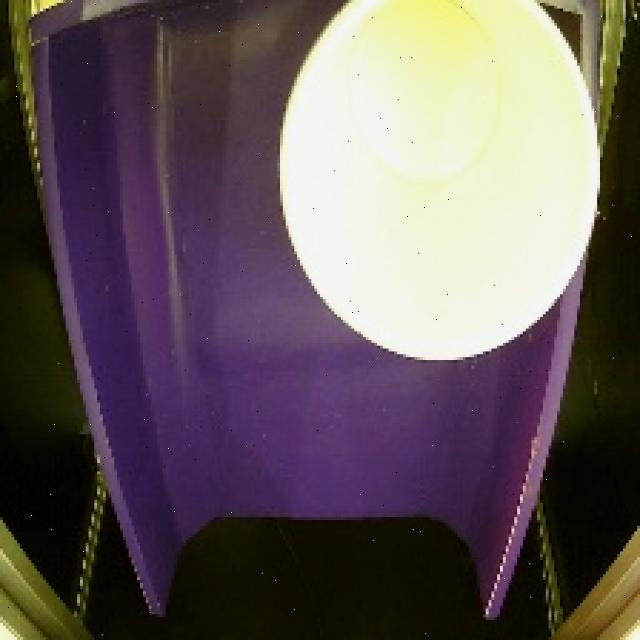cups: (270, 0, 608, 376)
